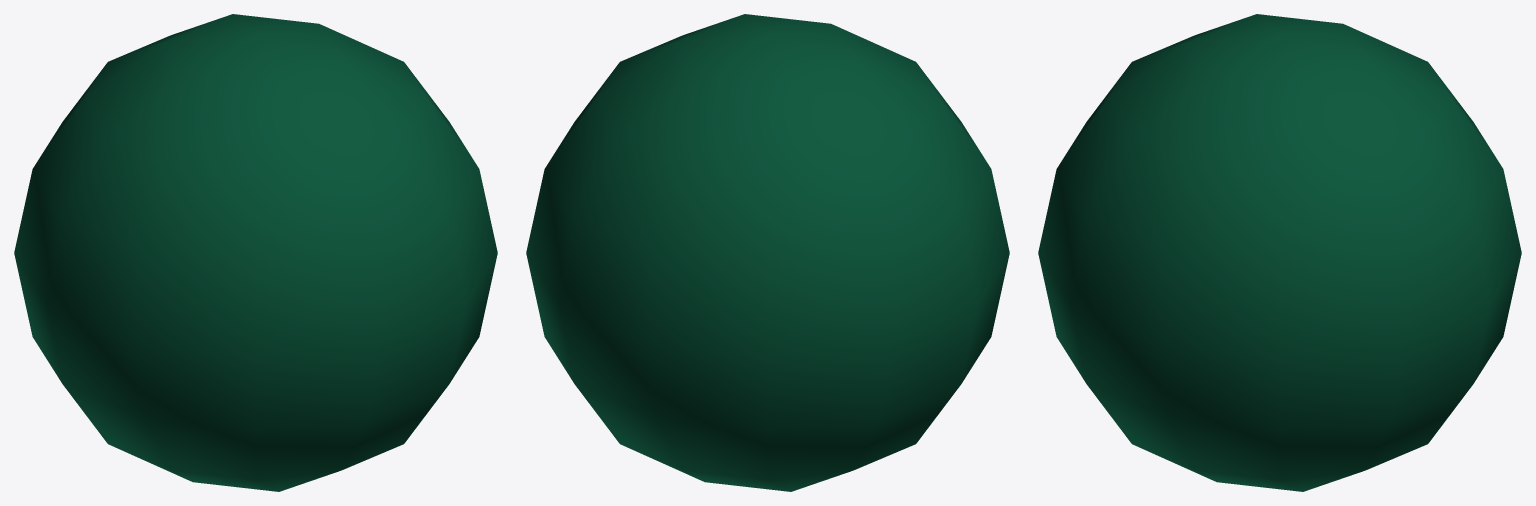
The model's file is Artifact_03.fbx.
3 renders of one model, left to right at view 1: azimuth 30°, elevation 25°; view 2: azimuth 150°, elevation 25°; view 3: azimuth 270°, elevation 25°, orthographic.
Parts seen in each view (by area): view 1: Artifact_03; view 2: Artifact_03; view 3: Artifact_03.
Boxes of the visible parts, <box> form: Artifact_03: <box>14,14,497,491</box>; Artifact_03: <box>526,14,1009,491</box>; Artifact_03: <box>1038,14,1521,491</box>.
Size of the model in its own units: 69.22 by 69.22 by 69.22.
